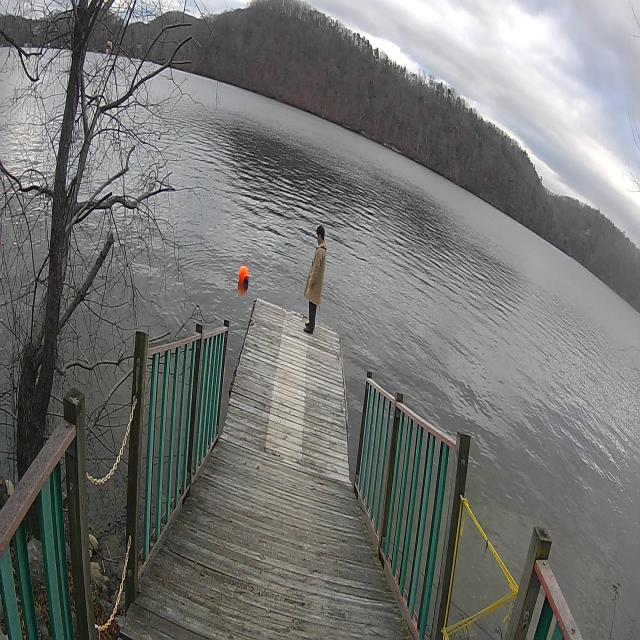Buoy: (236, 262, 251, 290)
